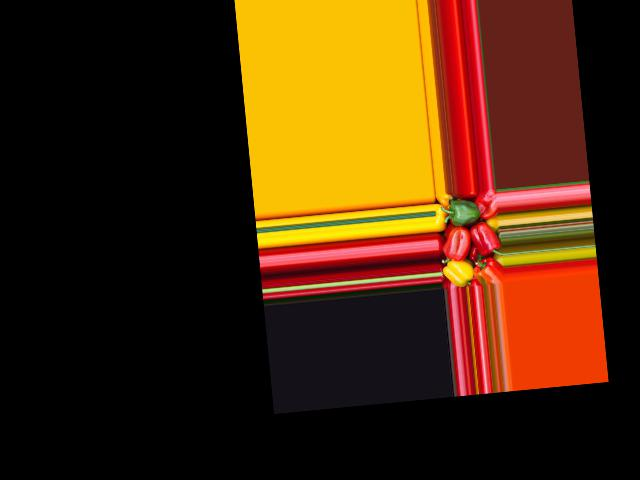bell_pepper: (440, 256, 477, 288)
